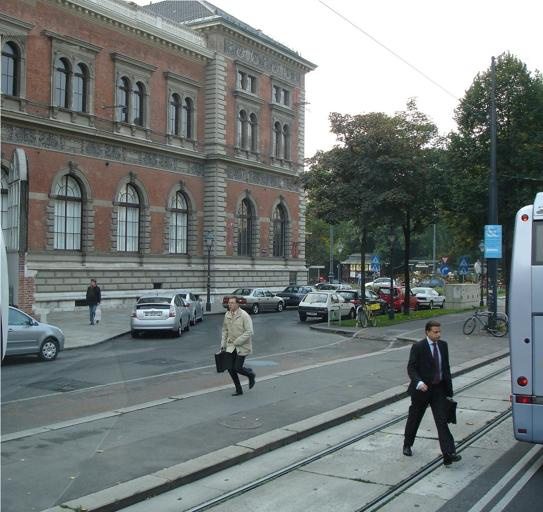non-vehicle: (463, 305, 508, 337), (355, 302, 377, 327)
